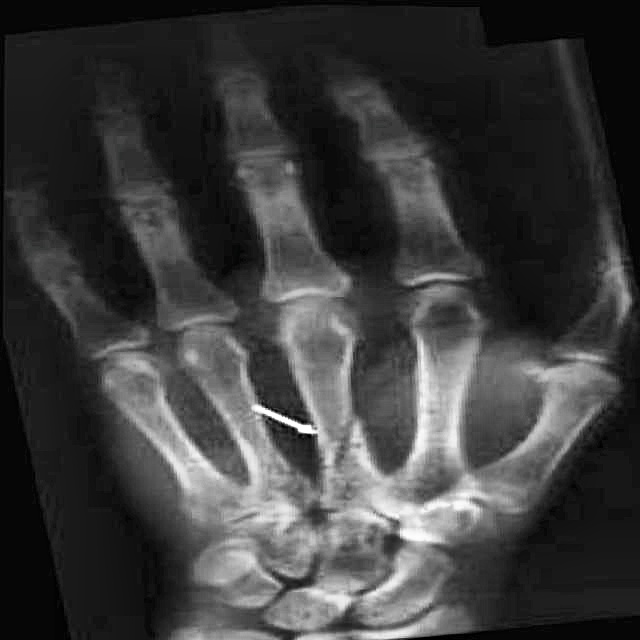Oblique Displaced: (294, 397, 397, 498)
